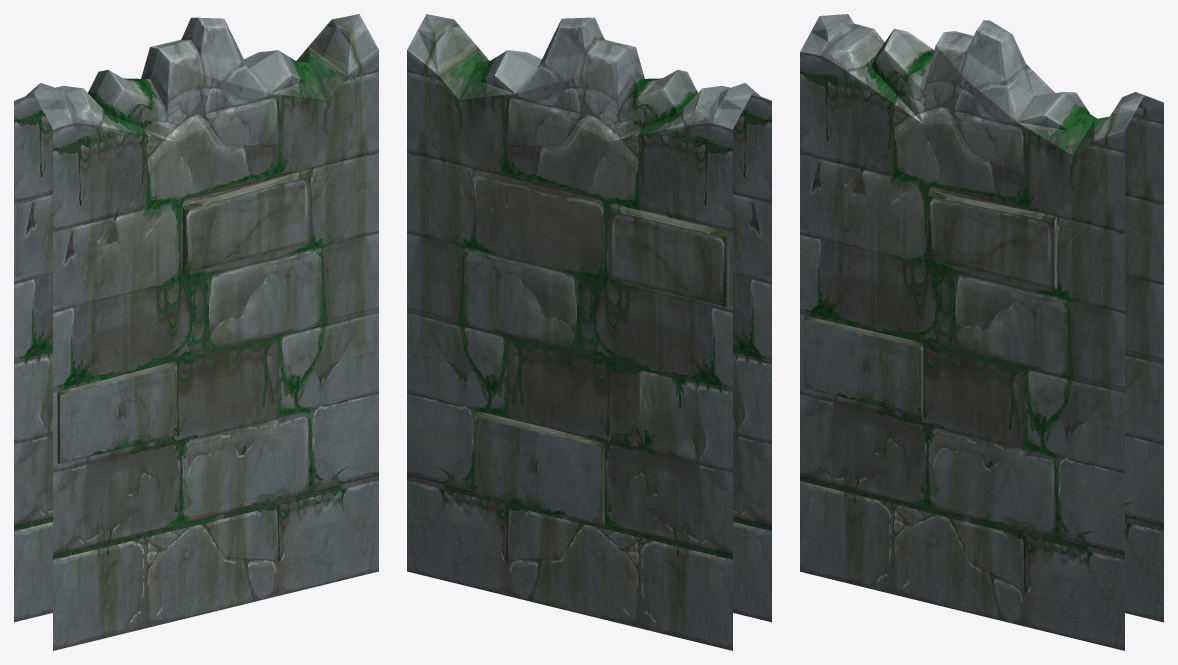
The model's file is stemple_wall_straight_08.fbx.
3 renders of one model, left to right at view 1: azimuth 30°, elevation 25°; view 2: azimuth 150°, elevation 25°; view 3: azimuth 330°, elevation 25°, orthographic.
Parts seen in each view (by area): view 1: obj2.008; view 2: obj2.008; view 3: obj2.008.
Part boxes in pixels (x1,y1,x2,y2): obj2.008: (14,14,378,650); obj2.008: (407,14,771,650); obj2.008: (800,14,1163,650).
Size of the model in its own units: 4 by 6.79 by 0.9085.
